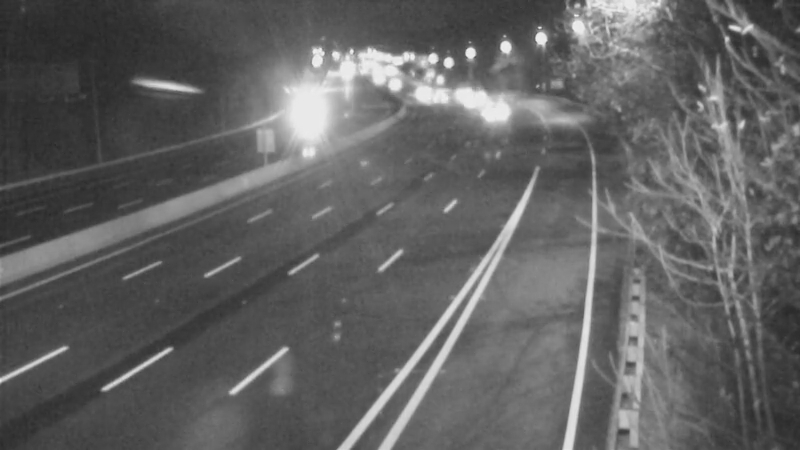vehicle: (391, 66, 441, 116), (438, 67, 488, 117), (412, 68, 462, 118), (447, 76, 497, 126), (471, 86, 521, 136), (276, 89, 326, 139)
